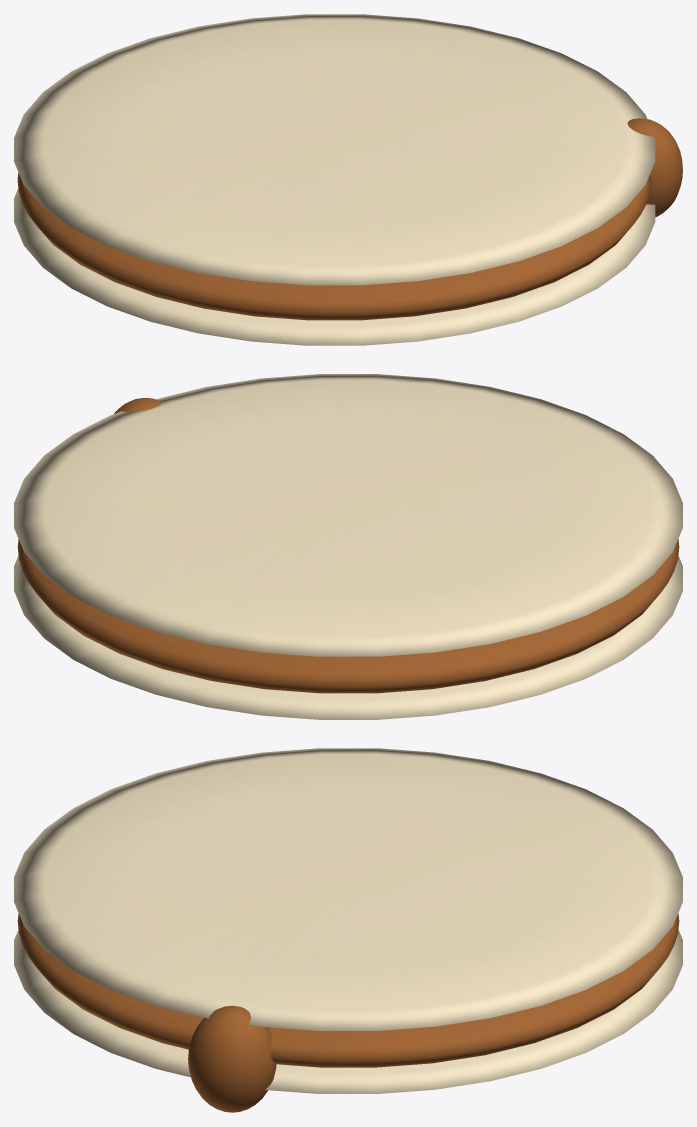
Rendered from comida_obleas.glb.
3 views of the same model, one above another, from view 1: azimuth 30°, elevation 25°; view 2: azimuth 150°, elevation 25°; view 3: azimuth 270°, elevation 25° (orthographic). The views are drawn at different scales.
Visible parts, largest first — view 1: oblea 1.001, arequipe.001, oblea 0.001, gota arequipe.001; view 2: oblea 1.001, arequipe.001, oblea 0.001; view 3: oblea 1.001, arequipe.001, oblea 0.001, gota arequipe.001.
Boxes of the visible parts, x1,y1,x2,y2 form: oblea 1.001: [14, 14, 655, 285]; arequipe.001: [17, 172, 651, 320]; oblea 0.001: [14, 188, 655, 345]; gota arequipe.001: [627, 118, 682, 217]; oblea 1.001: [14, 374, 682, 656]; arequipe.001: [17, 539, 679, 693]; oblea 0.001: [14, 555, 682, 719]; oblea 1.001: [14, 748, 682, 1030]; arequipe.001: [17, 913, 679, 1067]; oblea 0.001: [14, 930, 682, 1093]; gota arequipe.001: [188, 1005, 276, 1112].
Size of the model in its own units: 0.2934 by 0.0489 by 0.2884.
